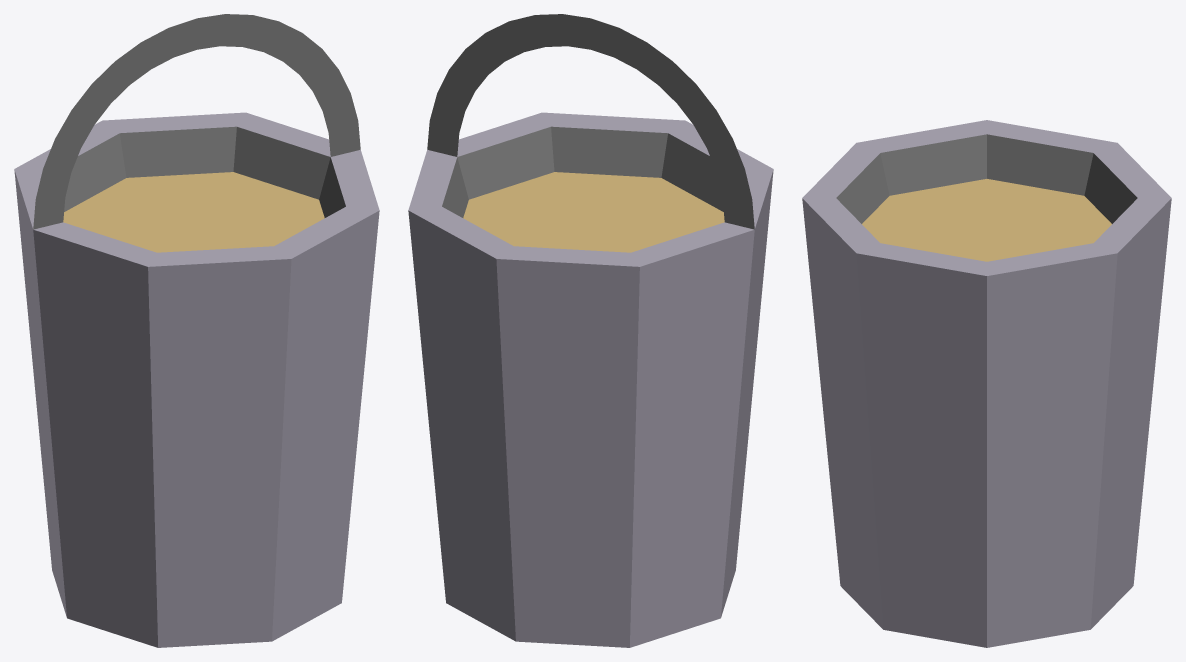
Rendered from bucket.dae.
The picture shows the model from 3 angles, left to right: view 1: azimuth 30°, elevation 25°; view 2: azimuth 150°, elevation 25°; view 3: azimuth 270°, elevation 25°; orthographic projection. The views are drawn at different scales.
Parts seen in each view (by area): view 1: Cylinder; view 2: Cylinder; view 3: Cylinder.
Boxes of the visible parts, x1,y1,x2,y2 form: Cylinder: [14, 14, 379, 647]; Cylinder: [408, 14, 773, 647]; Cylinder: [802, 120, 1171, 647].
Bounding box in the file's own units: 0.684 × 0.684 × 1.13.
Materials: 1 (1 with a texture image).
